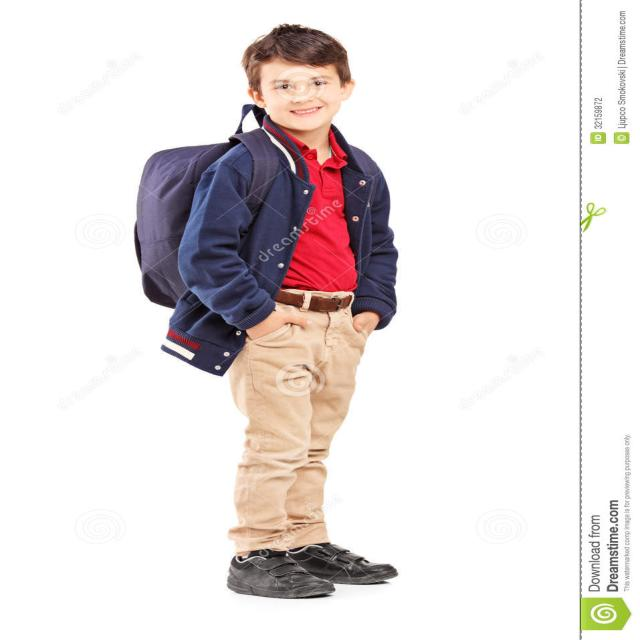child: (124, 14, 430, 610)
